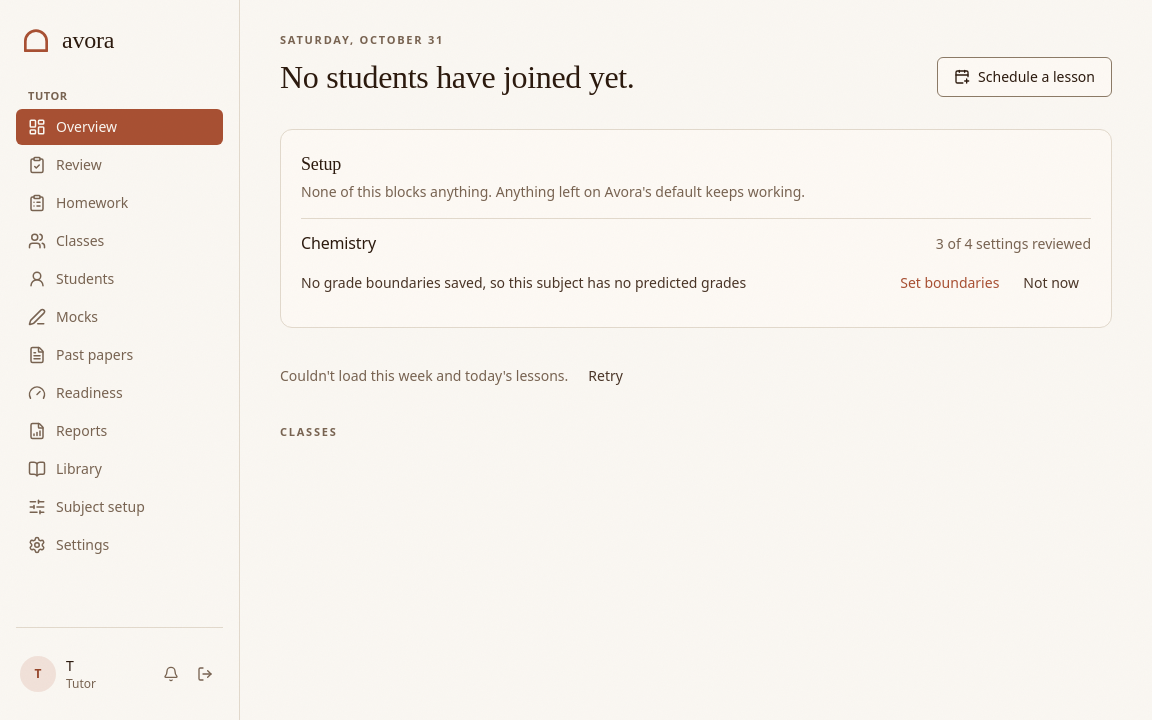
it: a failed hide puts the line back and says so
Click the button with aria-label "Not now: Set boundaries for Chemistry": (1051, 282) x1=1011 y1=266 x2=1091 y2=298
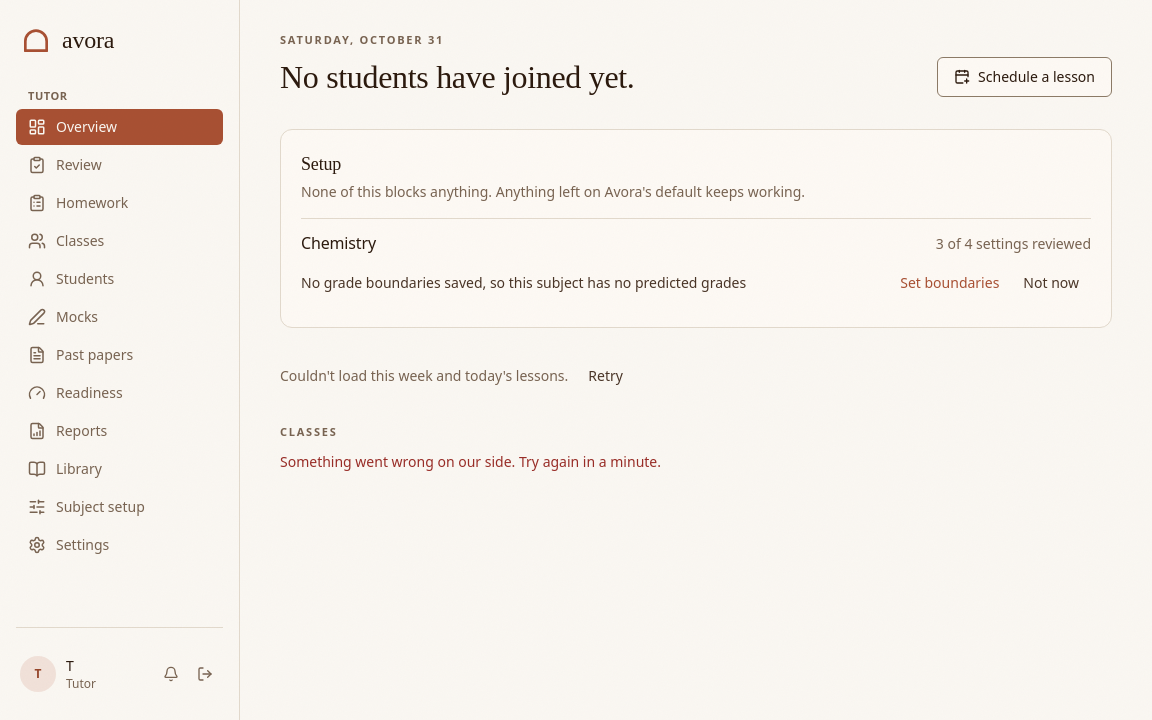
expect the link with aria-label "Set boundaries for Chemistry" is shown: met, box x1=900 y1=270 x2=999 y2=294
expect the message "Something went wrong on our side. Try again in a minute." is shown: met, box x1=280 y1=452 x2=661 y2=471
